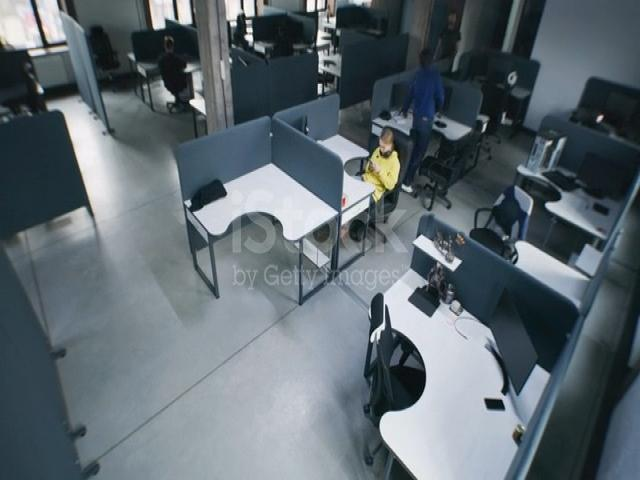empty chair: (344, 267, 426, 446), (465, 176, 551, 291), (416, 117, 469, 208), (79, 17, 124, 87), (18, 45, 56, 121), (476, 86, 506, 155), (313, 57, 338, 104)
occupiedchair: (363, 108, 406, 233), (154, 17, 202, 115), (568, 96, 638, 149)
